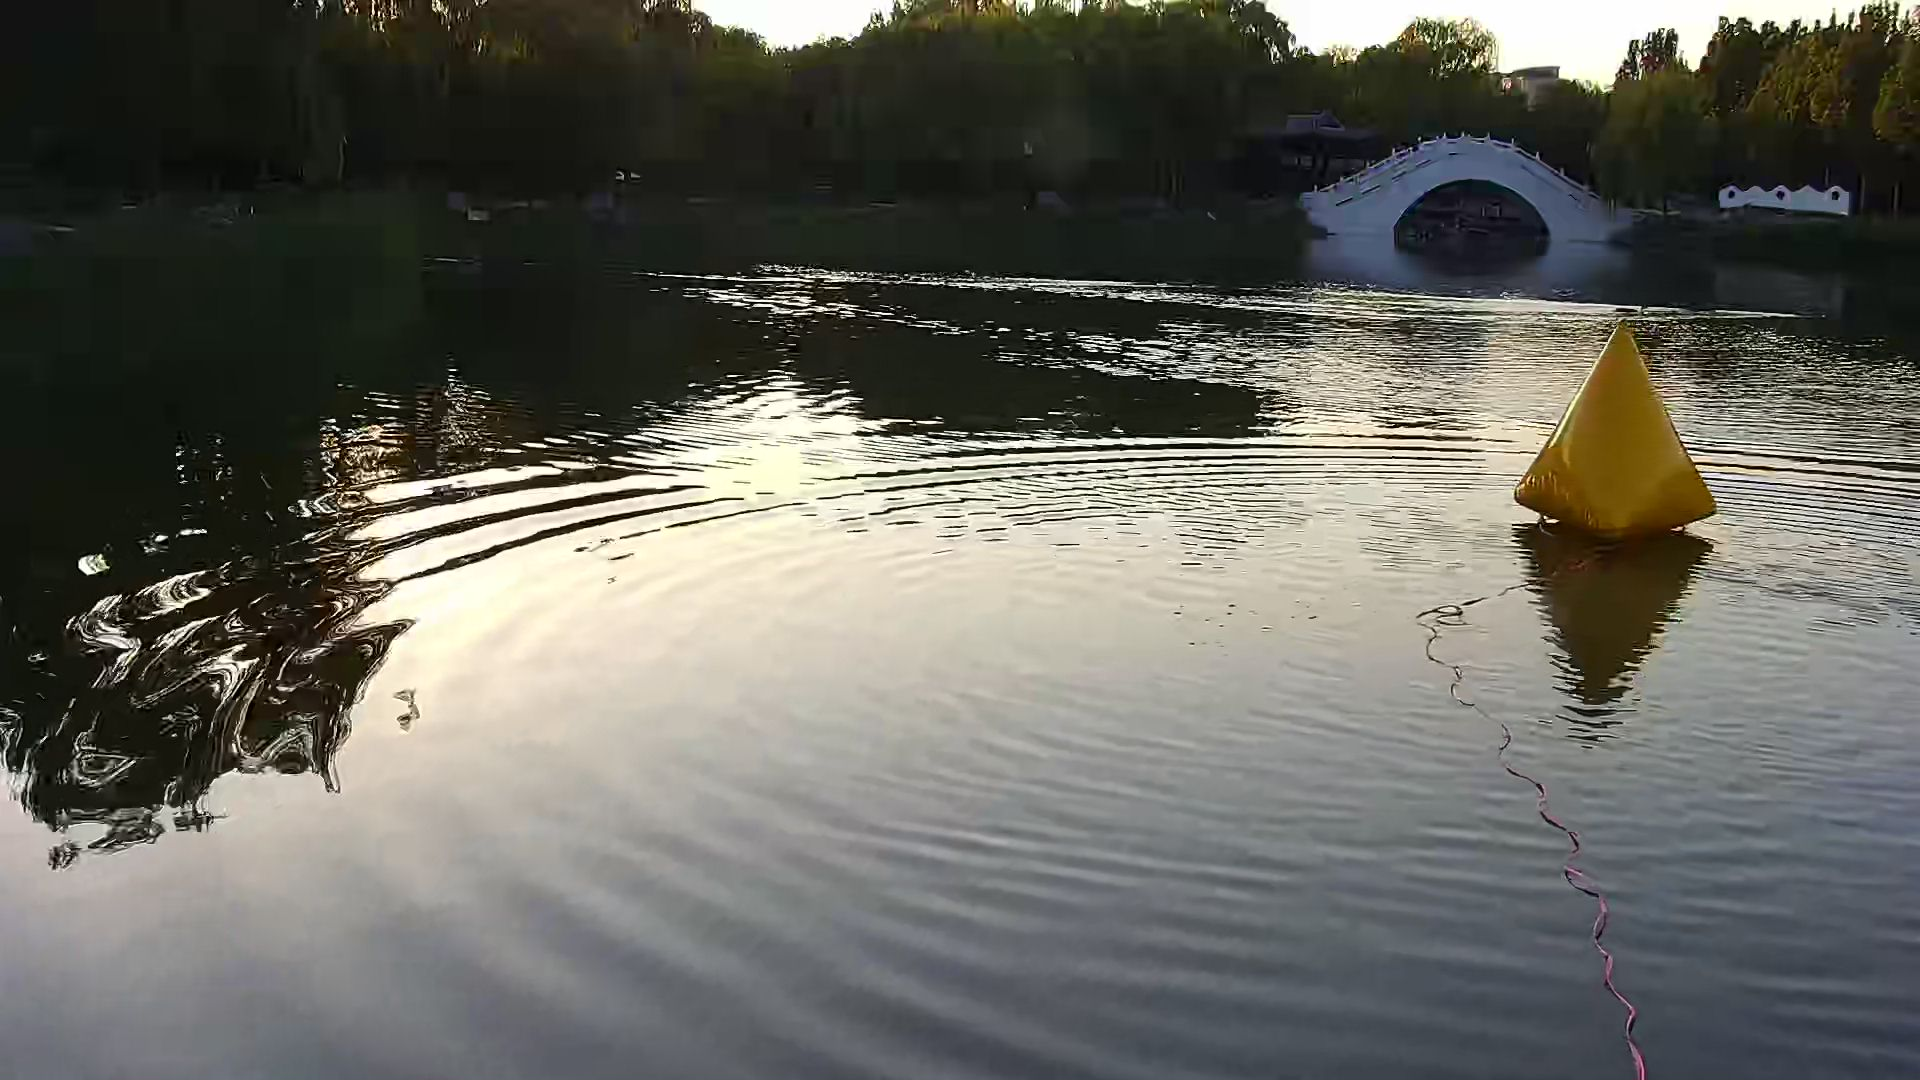bridge: (1300, 131, 1639, 239)
rubbish: (1513, 316, 1713, 553)
